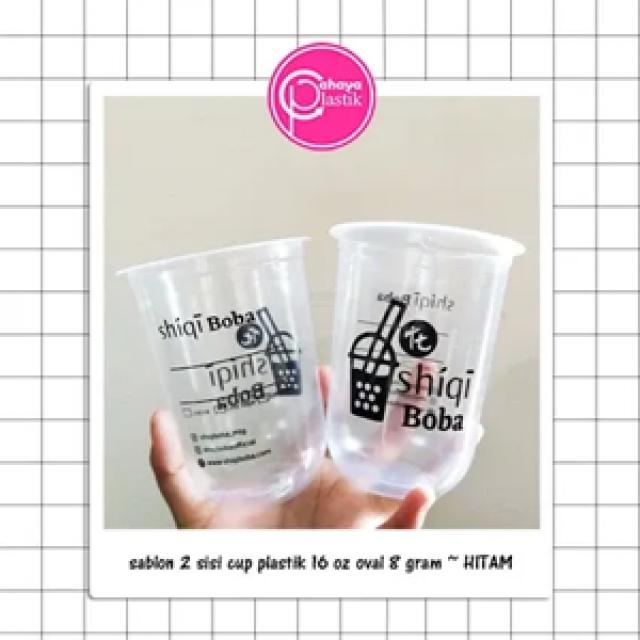plastic cup: (111, 233, 328, 512), (322, 216, 531, 504)
